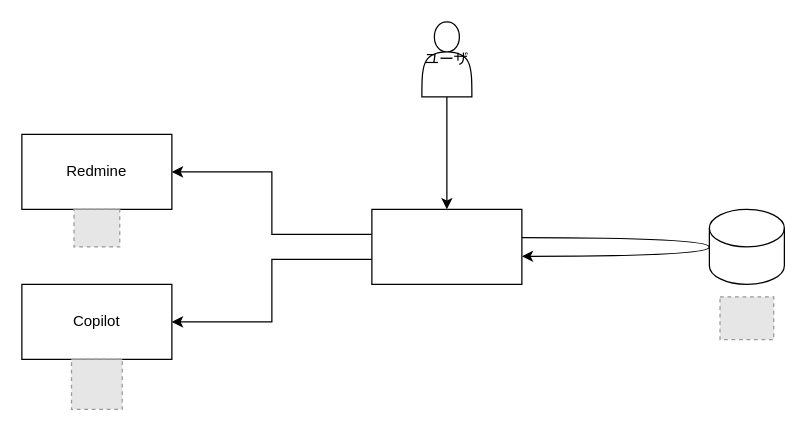
Image size: 806x431. Some labels were removed from this diagram. Grey dashed boxes stand in for pictures. Each missing label, with the box of its shape:
DB: (708, 208, 784, 284)
勤怠管理システム: (371, 208, 522, 284)
